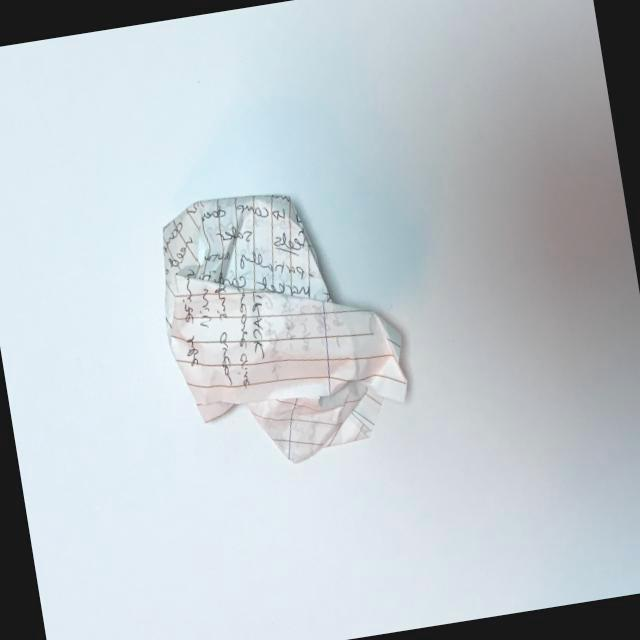paper: (118, 150, 434, 498)
